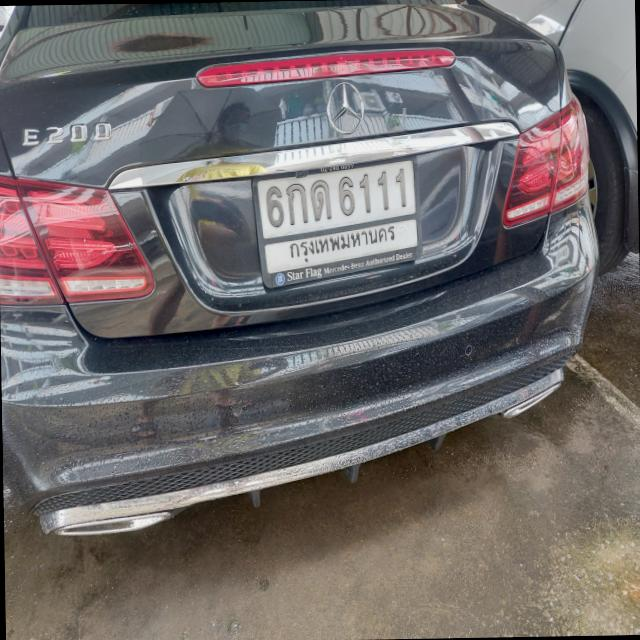license_plate: (252, 151, 426, 294)
